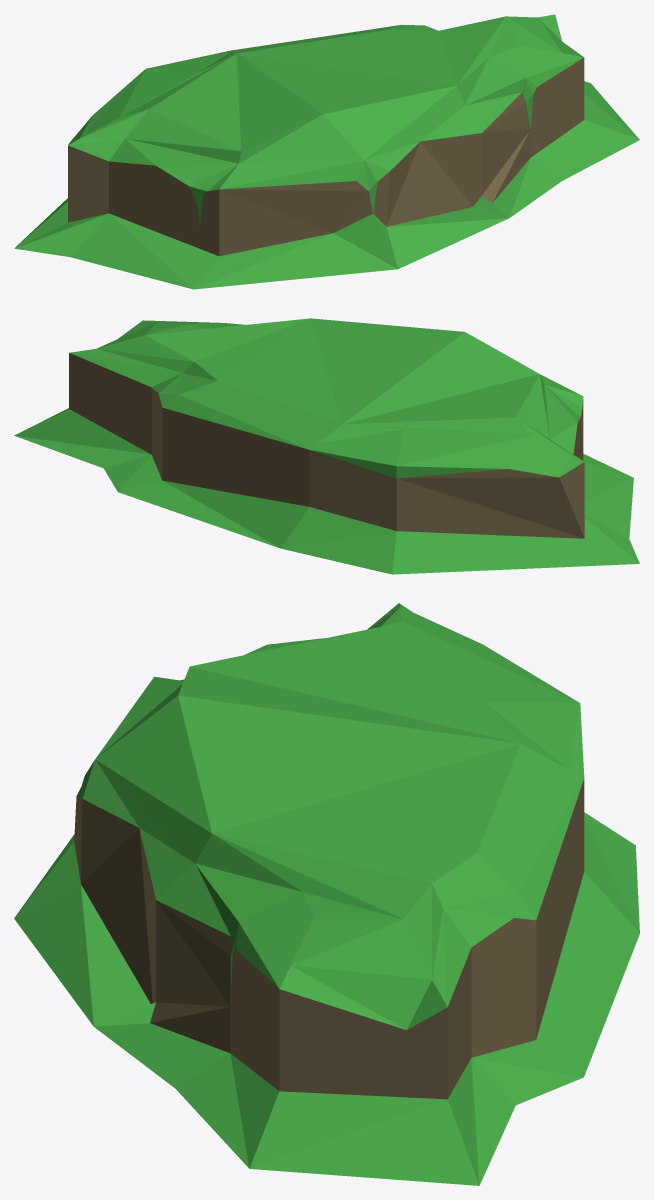
The model's file is Ground_05.FBX.
3 views of the same model, one above another, from view 1: azimuth 30°, elevation 25°; view 2: azimuth 150°, elevation 25°; view 3: azimuth 270°, elevation 25° (orthographic). The views are drawn at different scales.
Visible parts, largest first — view 1: Ground_05; view 2: Ground_05; view 3: Ground_05.
Part boxes in pixels (x1,y1,x2,y2): Ground_05: (14,14,639,289); Ground_05: (14,318,639,574); Ground_05: (14,603,639,1185).
Size of the model in its own units: 19.23 by 3.8 by 10.59.
